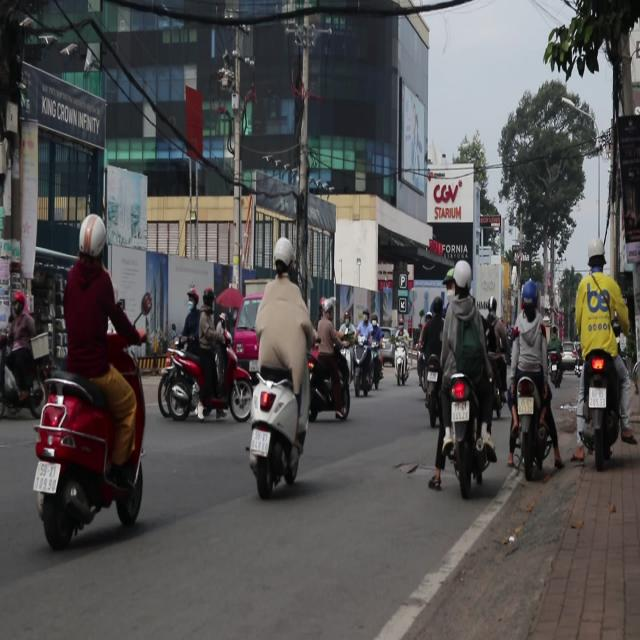car: (560, 341, 582, 371)
motorbike: (32, 352, 148, 551), (246, 358, 308, 501), (158, 334, 253, 421), (437, 368, 495, 483), (576, 353, 628, 473), (507, 365, 555, 488), (302, 348, 352, 428), (355, 338, 382, 397), (420, 361, 439, 410), (396, 345, 410, 388)
truck: (232, 295, 267, 366)
